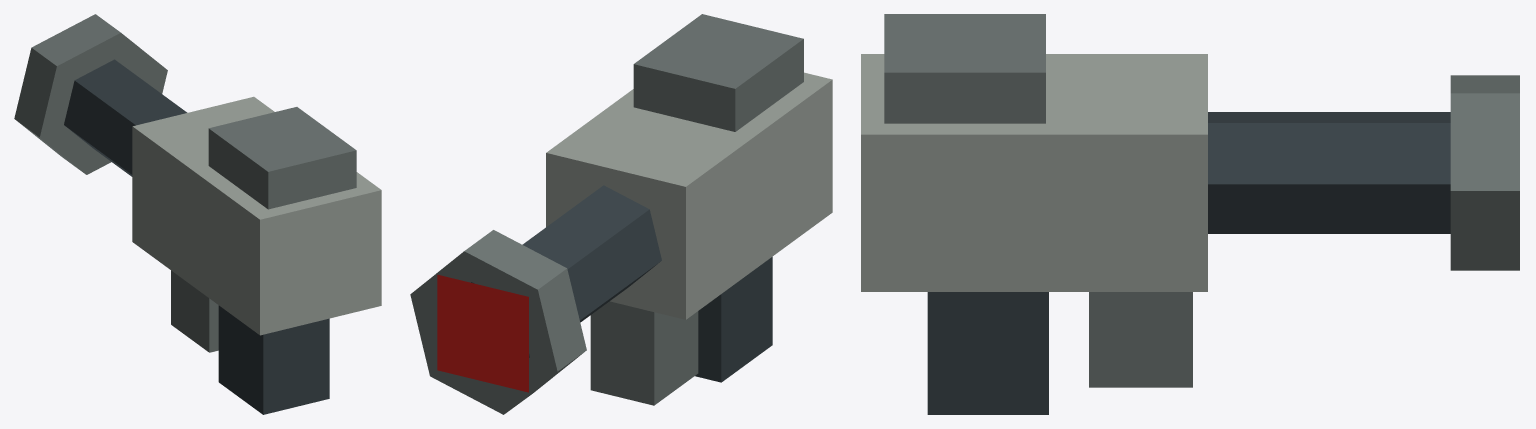
The picture shows the model from 3 angles, left to right: view 1: azimuth 30°, elevation 25°; view 2: azimuth 150°, elevation 25°; view 3: azimuth 270°, elevation 25°; orthographic projection. The views are drawn at different scales.
Visible parts, largest first — view 1: mount; view 2: mount; view 3: mount.
Part boxes in pixels (left/top/right/bottom): mount: left=14, top=14, right=381, bottom=414; mount: left=410, top=14, right=832, bottom=414; mount: left=861, top=14, right=1519, bottom=414.
Bounding box in the file's own units: 3.48 × 6.68 × 11.43.
